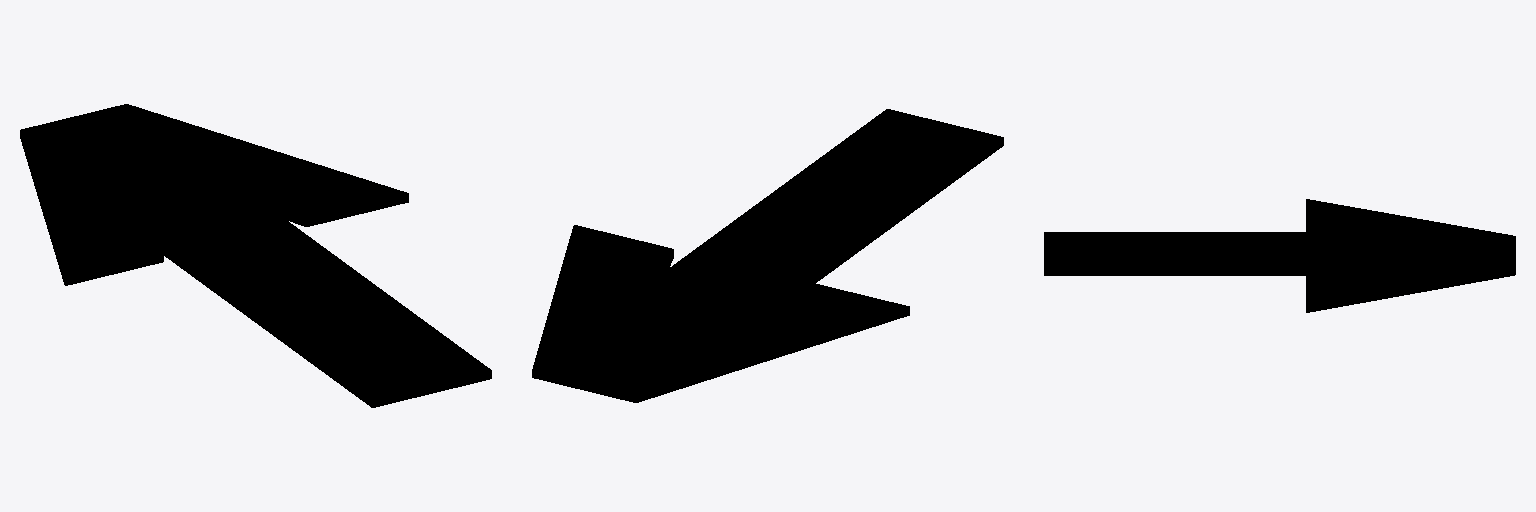
URDF robot description (arrow):
<?xml version="1.0"?>
<!-- created with Phobos 1.0.1 "Capricious Choutengan" -->
  <robot name="arrow">

    <link name="Untitled">
      <inertial>
        <origin xyz="0 0 0" rpy="0 0 0"/>
        <mass value="0.001"/>
        <inertia ixx="0.001" ixy="0" ixz="0" iyy="0.001" iyz="0" izz="0.001"/>
      </inertial>
      <visual name="Arrow">
        <origin xyz="0 0 0" rpy="0 0 0"/>
        <geometry>
          <mesh filename="Arrow.stl" scale="0.015 0.012 0.005"/>
        </geometry>
        <material name="Material.005"/>
      </visual>
    </link>

    <material name="Material.005">
      <color rgba="0 0 0 1.0"/>
    </material>

  </robot>

--- Render facts (derived) ---
3 views of the same robot in one strip: view 1: azimuth 30°, elevation 25°; view 2: azimuth 150°, elevation 25°; view 3: azimuth 270°, elevation 25° (orthographic).
Robot: arrow — 1 links, 0 joints (none); root link Untitled; default pose: every joint at zero.
Visible links, largest first — view 1: Untitled; view 2: Untitled; view 3: Untitled.
Link boxes in pixels (bbox=[...]): Untitled: bbox=[20, 104, 491, 407]; Untitled: bbox=[532, 109, 1003, 402]; Untitled: bbox=[1044, 199, 1515, 312].
Size in the robot's own frame: 0.3899 by 0.7144 by 0.01 metres.
Meshes: 1 distinct files referenced, 1 mesh visuals loaded (1 binary STL).
